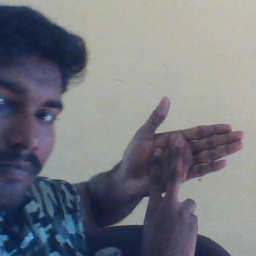N: (121, 96, 245, 240)
